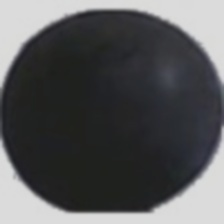grapes: (3, 30, 190, 171)
